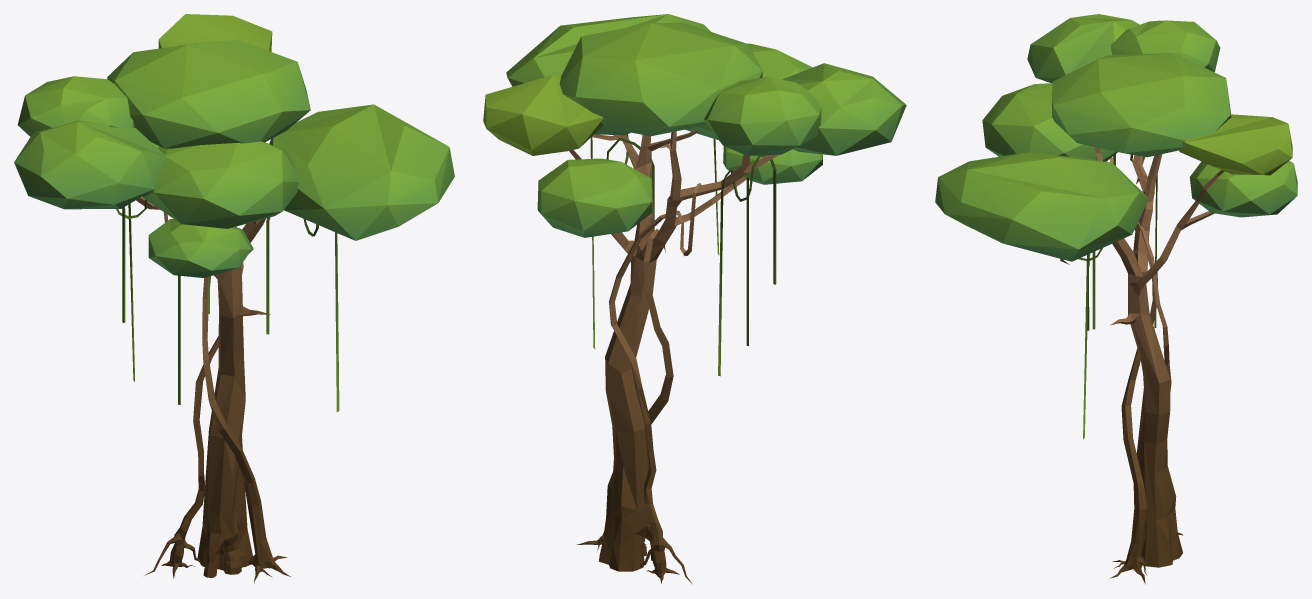
The model's file is ZLP_Plant_B_7.FBX.
3 renders of one model, left to right at view 1: azimuth 30°, elevation 25°; view 2: azimuth 150°, elevation 25°; view 3: azimuth 270°, elevation 25°, orthographic. The views are drawn at different scales.
Visible parts, largest first — view 1: ZLP_Plant_B_7; view 2: ZLP_Plant_B_7; view 3: ZLP_Plant_B_7.
Boxes of the visible parts, left/top/right/bottom form: ZLP_Plant_B_7: left=14, top=14, right=454, bottom=583; ZLP_Plant_B_7: left=483, top=14, right=906, bottom=584; ZLP_Plant_B_7: left=935, top=14, right=1297, bottom=584.
Bounding box in the file's own units: 814 × 1030 × 712.
